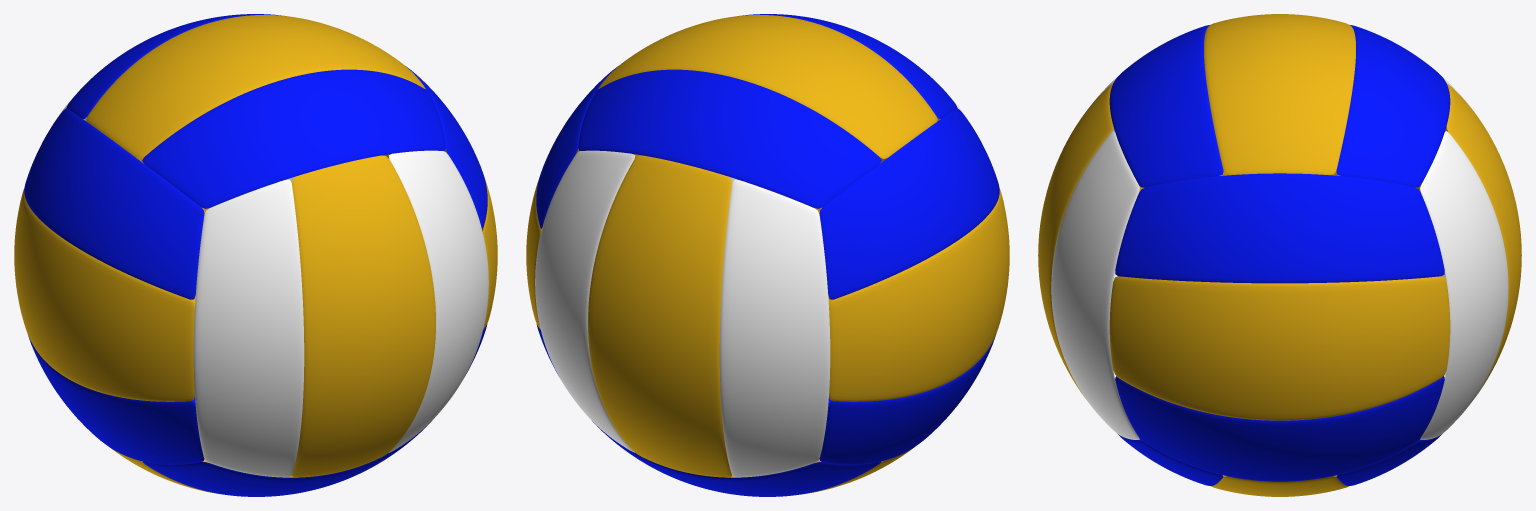
File: Volleyball.fbx
3 views of the same model, side by side, from view 1: azimuth 30°, elevation 25°; view 2: azimuth 150°, elevation 25°; view 3: azimuth 270°, elevation 25° (orthographic).
Parts seen in each view (by area): view 1: Box01; view 2: Box01; view 3: Box01.
Boxes of the visible parts, bbox=[...] form: Box01: bbox=[14, 14, 497, 496]; Box01: bbox=[526, 14, 1009, 496]; Box01: bbox=[1038, 14, 1521, 496].
Size of the model in its own units: 71.86 by 71.75 by 71.86.
